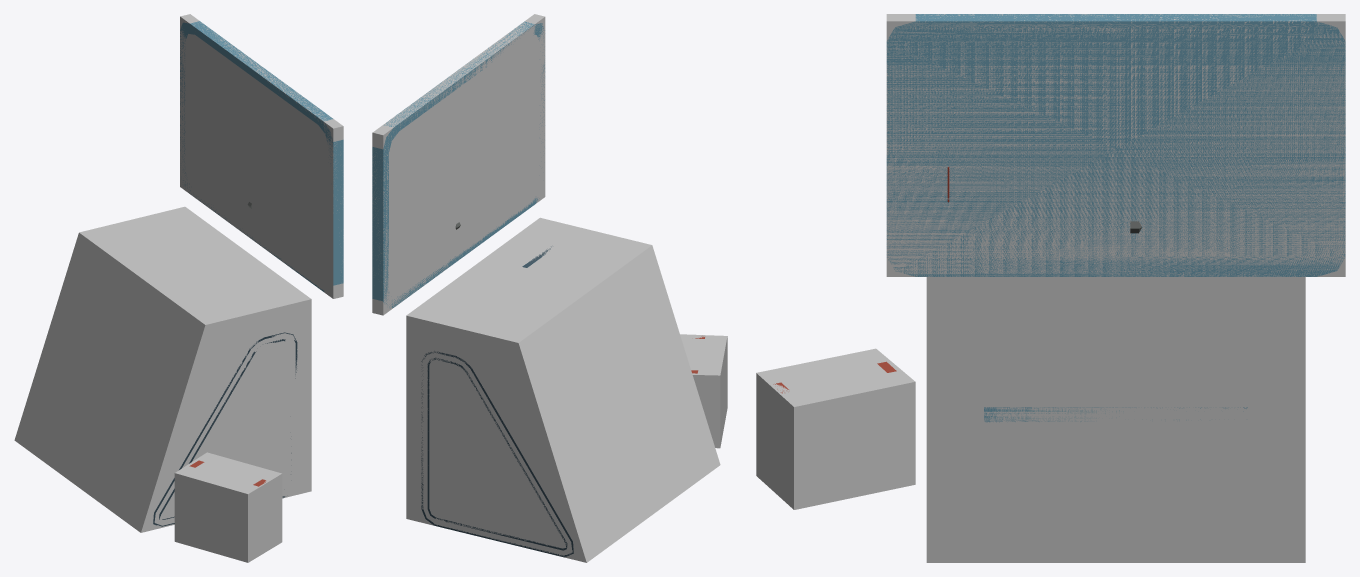
Rendered from SM_Mechanic_Tool.fbx.
3 views of the same model, side by side, from view 1: azimuth 30°, elevation 25°; view 2: azimuth 150°, elevation 25°; view 3: azimuth 270°, elevation 25° (orthographic). The views are drawn at different scales.
Visible parts, largest first — view 1: SM_Mechanic_Tool_ConvexHulls, SM_Mechanic_Tool; view 2: SM_Mechanic_Tool_ConvexHulls, SM_Mechanic_Tool; view 3: SM_Mechanic_Tool_ConvexHulls, SM_Mechanic_Tool.
Boxes of the visible parts, bbox=[...] form: SM_Mechanic_Tool_ConvexHulls: bbox=[14, 14, 343, 562]; SM_Mechanic_Tool: bbox=[153, 21, 343, 526]; SM_Mechanic_Tool_ConvexHulls: bbox=[372, 14, 727, 562]; SM_Mechanic_Tool: bbox=[372, 21, 704, 557]; SM_Mechanic_Tool_ConvexHulls: bbox=[756, 14, 1345, 562]; SM_Mechanic_Tool: bbox=[773, 14, 1345, 422].
Size of the model in its own units: 188 by 335 by 348.
2 materials, 1 textured.
